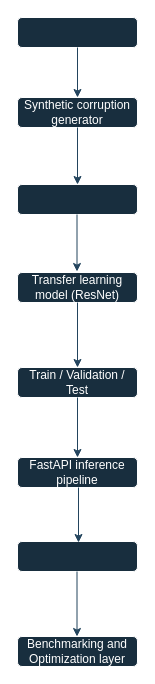
Some shapes in this 155 by 684 pixel diagram are drawn without their labels. Each missing label, with the centre of its shape:
"Clean data set" goes at pixel 77 32.
"Labelling of corrupted dataset" goes at pixel 77 199.
"Prediction + Confidence scoring" goes at pixel 77 556.
